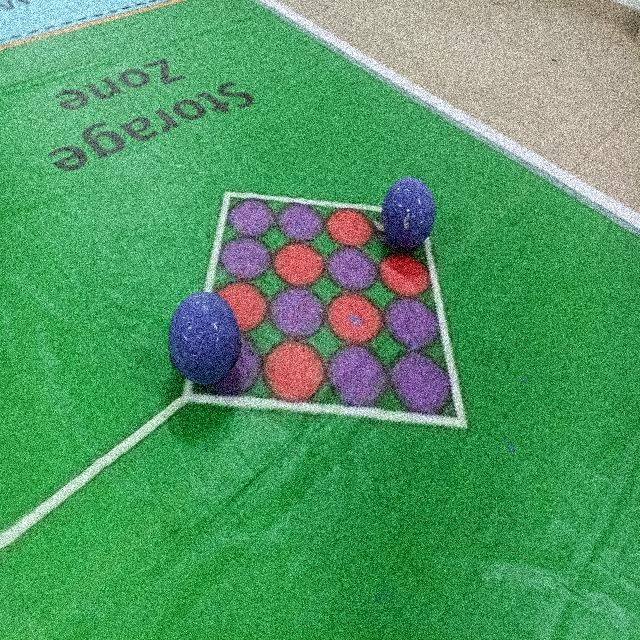purple_ball: (170, 291, 240, 386), (382, 180, 436, 248)
